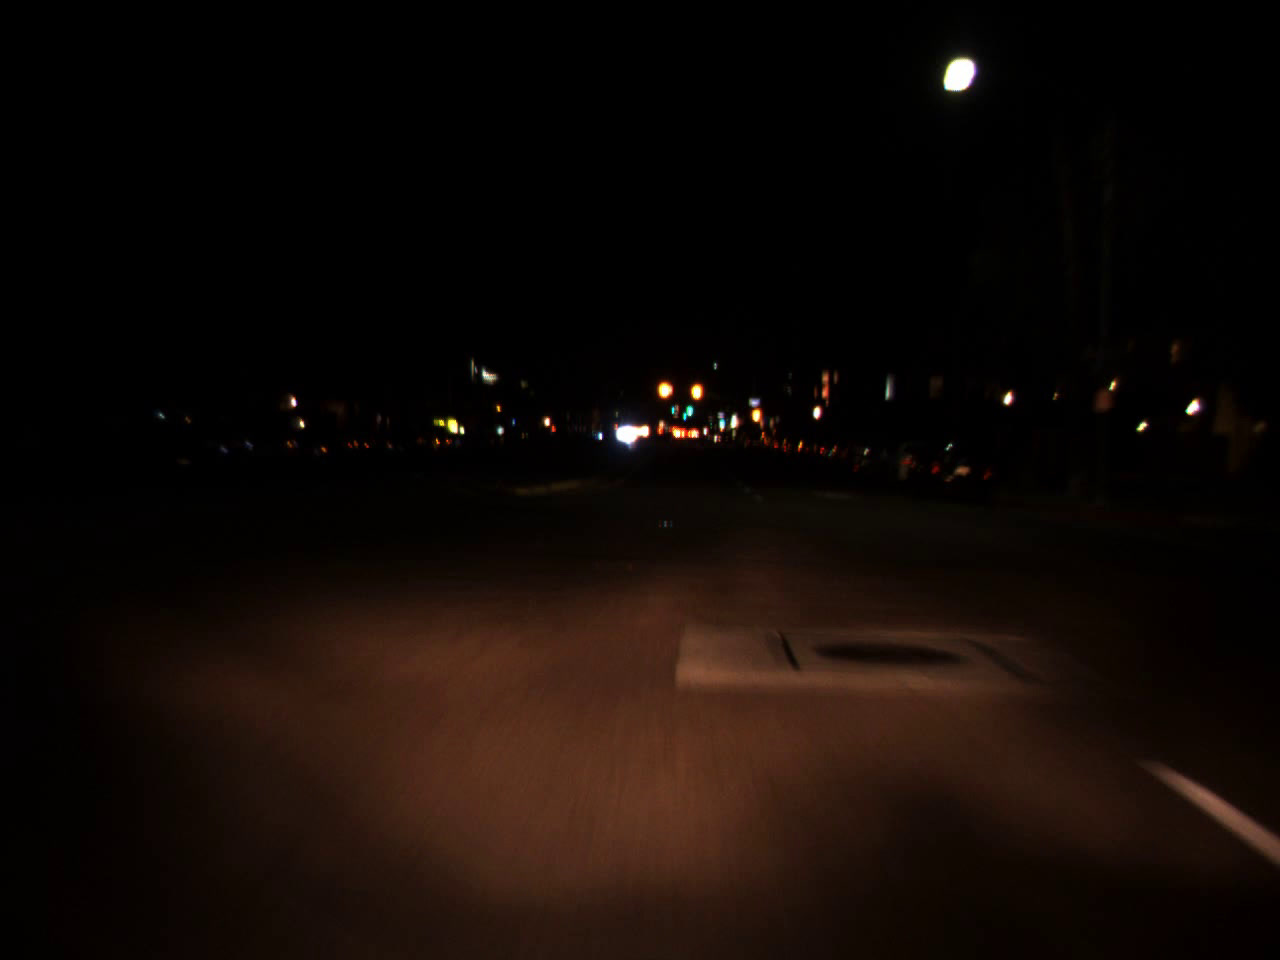go: (684, 391, 693, 421), (718, 414, 725, 426)
warning: (655, 370, 673, 405), (689, 372, 705, 407), (750, 398, 762, 430)
